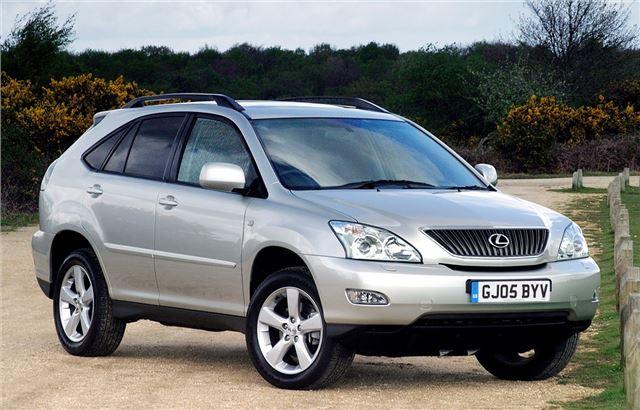pickup: (30, 91, 603, 390)
